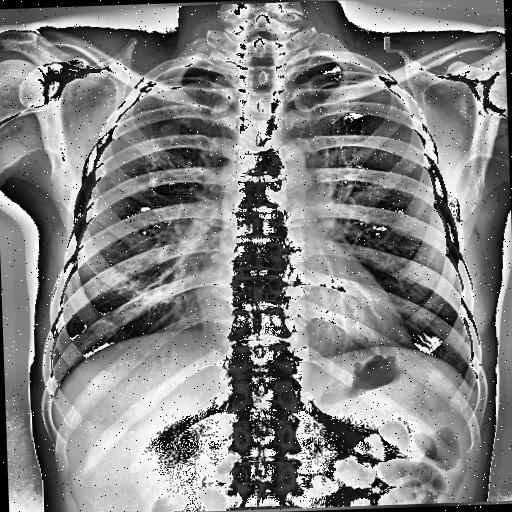11- Pleural thickening: (288, 61, 346, 89), (156, 67, 216, 81)
13- Pulmonary fibrosis: (138, 144, 164, 196)
8- Nodule-Mass: (157, 118, 182, 142), (156, 120, 182, 143), (157, 120, 177, 140)
